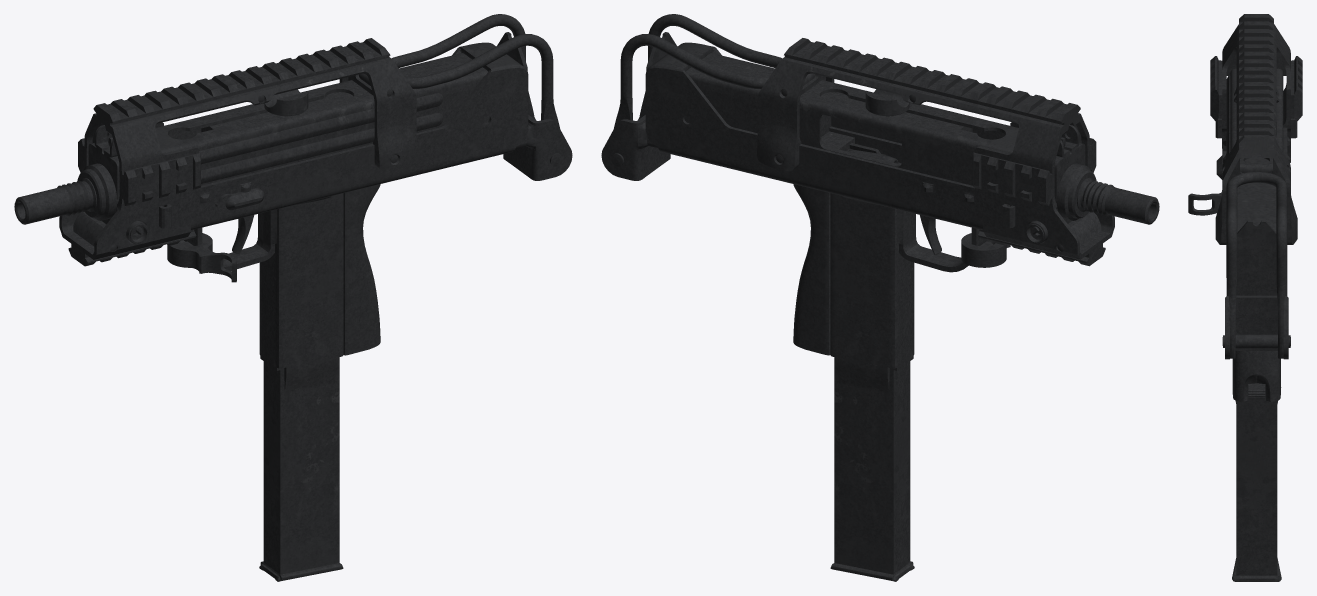
File: mac10.glb
3 renders of one model, left to right at view 1: azimuth 30°, elevation 25°; view 2: azimuth 150°, elevation 25°; view 3: azimuth 270°, elevation 25°, orthographic. The views are drawn at different scales.
Visible parts, largest first — view 1: mac10; view 2: mac10; view 3: mac10.
Part boxes in pixels (<box>): mac10: <box>14,14,572,581</box>; mac10: <box>601,14,1159,581</box>; mac10: <box>1188,14,1302,581</box>.
Bounding box in the file's own units: 0.3 × 0.2711 × 0.0605.
1 material, 1 textured.
